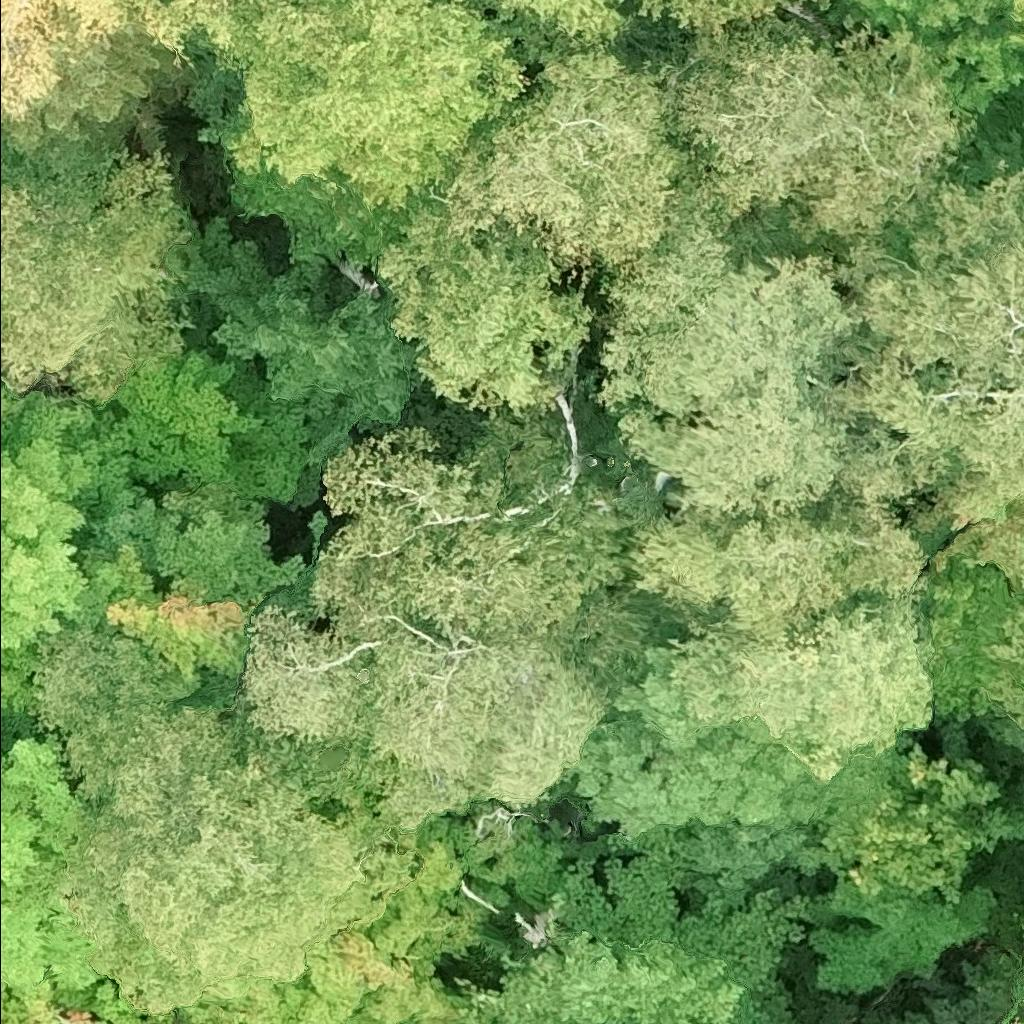crown: (240, 415, 640, 829), (35, 632, 422, 1022), (804, 159, 1023, 582), (0, 385, 257, 740), (593, 190, 858, 516), (668, 11, 976, 244), (159, 217, 425, 479), (564, 643, 834, 901), (440, 48, 704, 295), (221, 0, 532, 209), (784, 736, 1023, 993), (191, 819, 491, 1023), (616, 600, 935, 775), (0, 156, 202, 411), (373, 221, 593, 415), (624, 498, 922, 635), (0, 726, 122, 1009), (108, 344, 307, 509), (0, 0, 236, 130), (75, 487, 308, 618), (829, 0, 1023, 129), (465, 940, 749, 1023), (451, 0, 645, 60), (637, 0, 833, 44), (0, 985, 216, 1023), (979, 608, 1023, 731), (997, 0, 1023, 51), (1010, 975, 1023, 1023), (1021, 155, 1023, 172), (1021, 121, 1023, 130)
